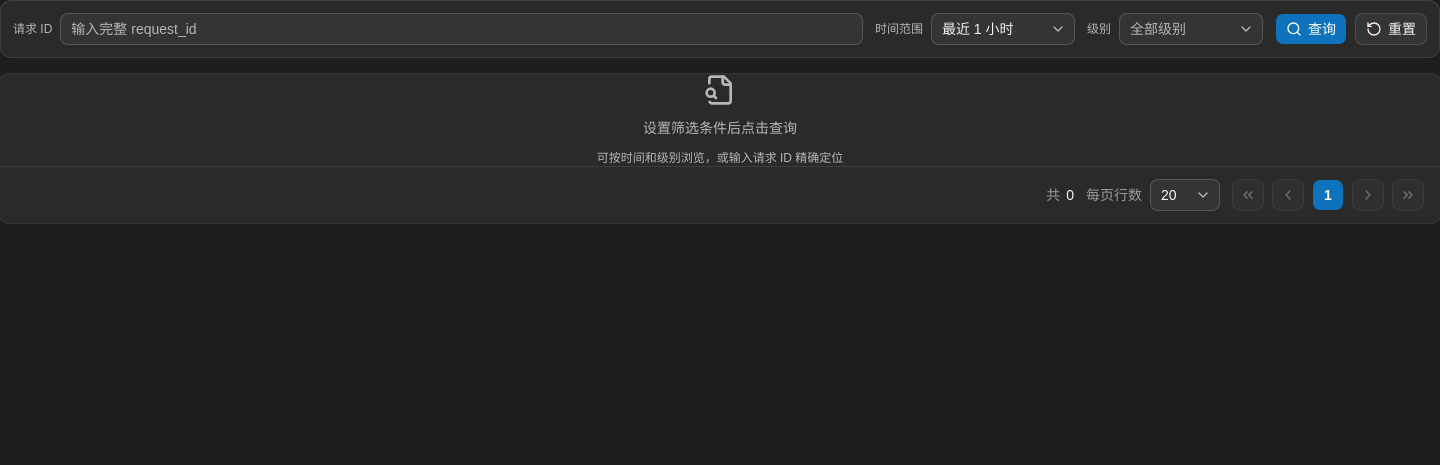
Test: 请求查询账号处置 › 查询命中日志中的稳定账号 ID 后展示账号处置
This screenshot has width=1440, height=465.
Type "req-206" into the field named "request_id" at (462, 29), box [60, 13, 863, 45]
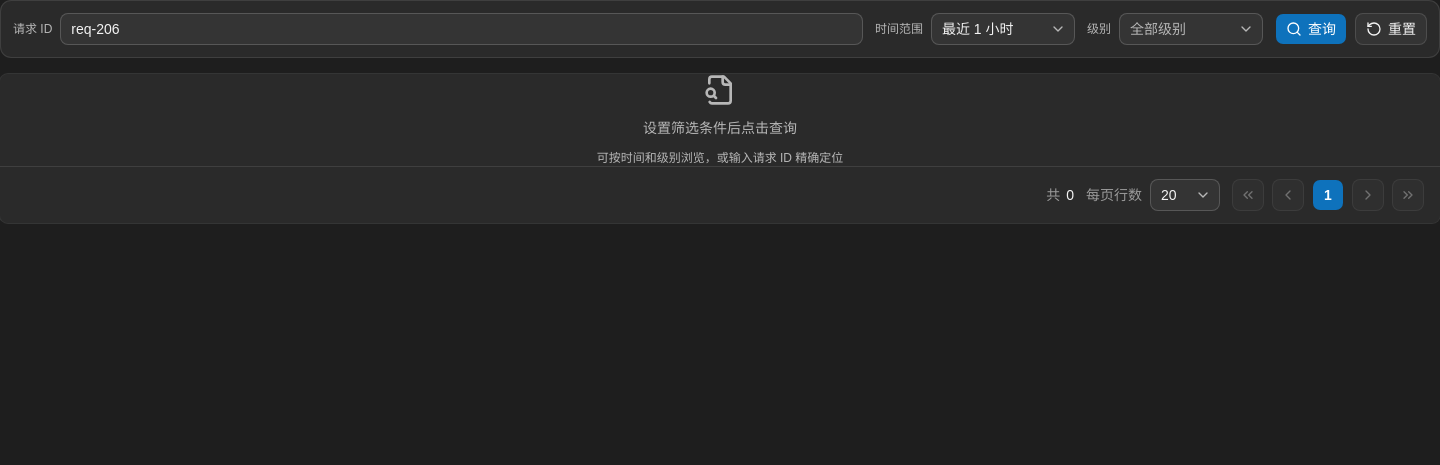
Click the button "查询" at (1311, 29), box [1275, 13, 1347, 45]
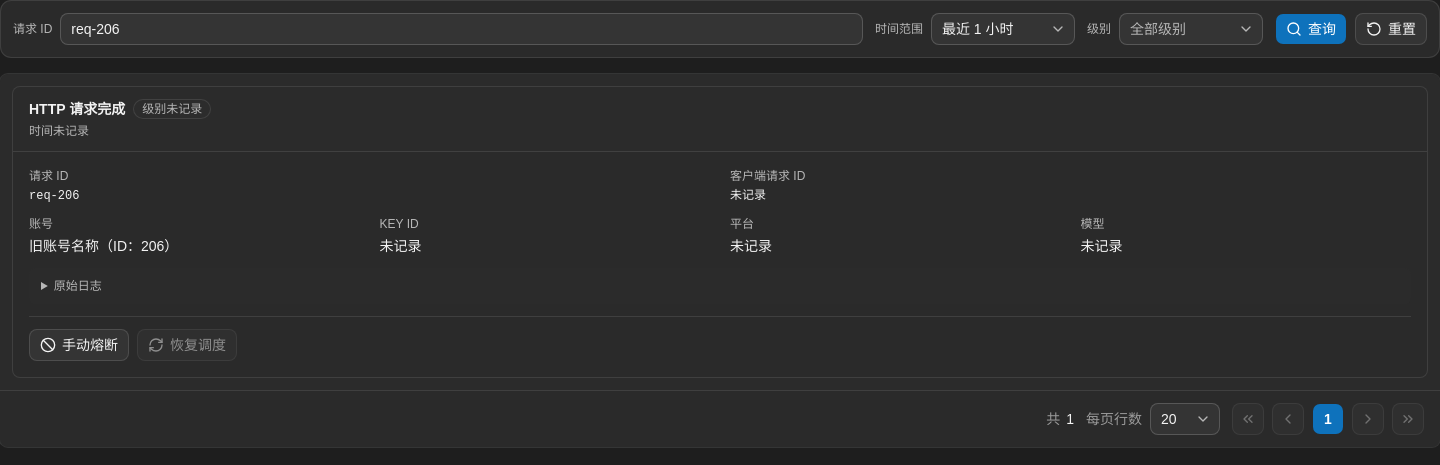
expect the element named "账号 206 处置" is shown: met, box [29, 329, 237, 361]
expect the button "手动熔断" is enabled: met, box [29, 329, 129, 361]
